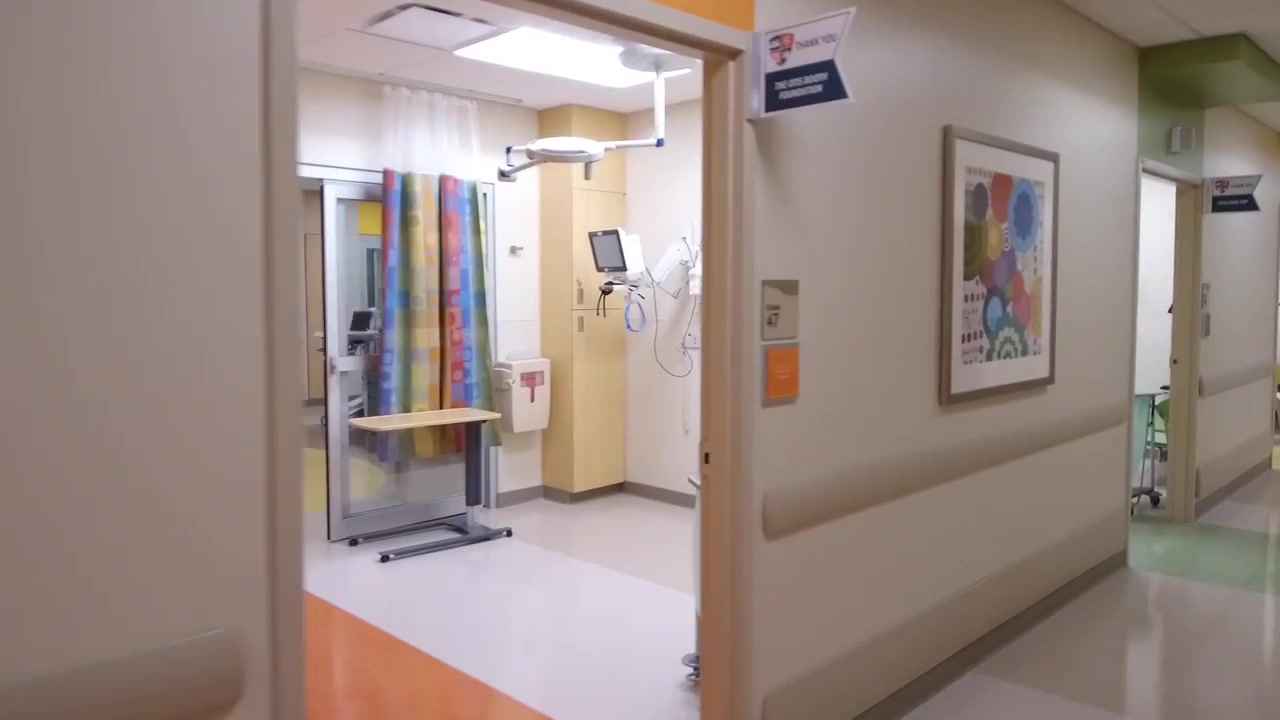bedside_monitor: (588, 229, 628, 274)
bedside_table: (347, 408, 513, 562)
cabinet: (537, 107, 629, 503)
computer: (348, 311, 372, 331)
curtain: (377, 83, 502, 463)
door_handle: (331, 364, 342, 386)
handle: (578, 285, 585, 305), (578, 315, 584, 333)
medical_waste_container: (492, 358, 553, 432)
waste_bin: (1131, 391, 1168, 516)
